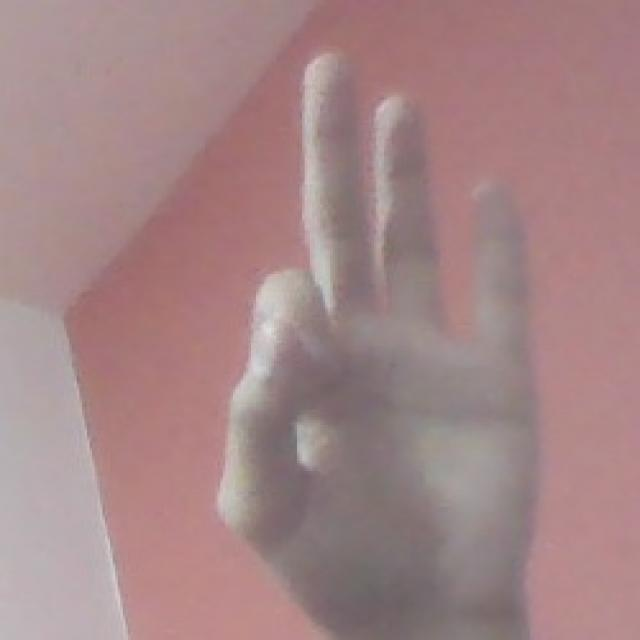Numeric-9: (215, 48, 542, 616)
